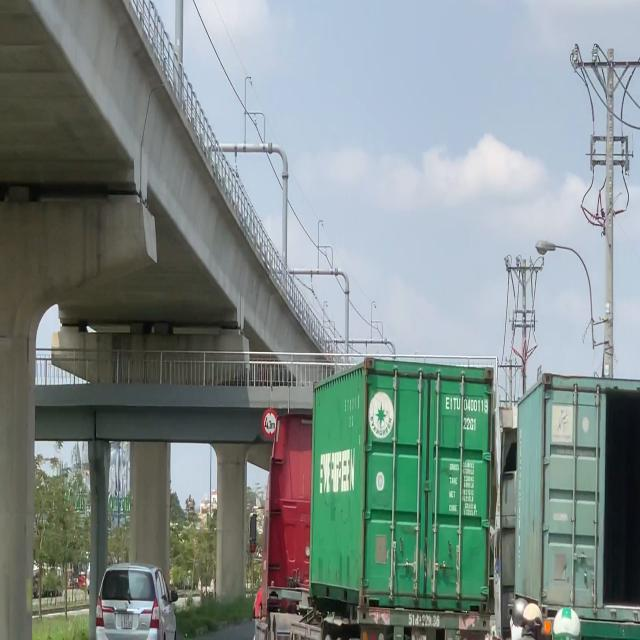Chieu cao toi da: (262, 408, 278, 439)
